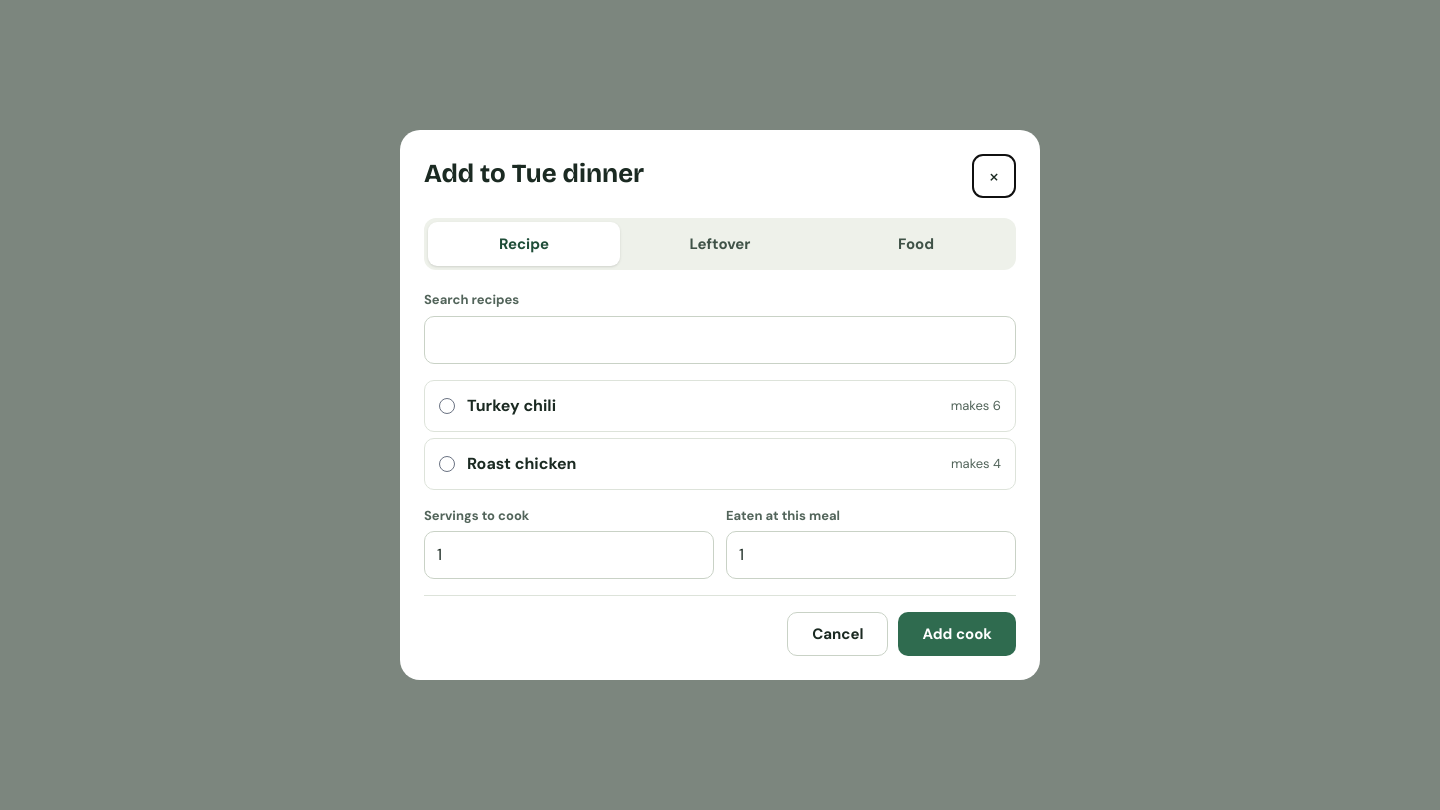
Test: AddDialog › offers only batches cooked before the slot with servings free
Click the tab "Leftover": (720, 244) [624,222,816,266]
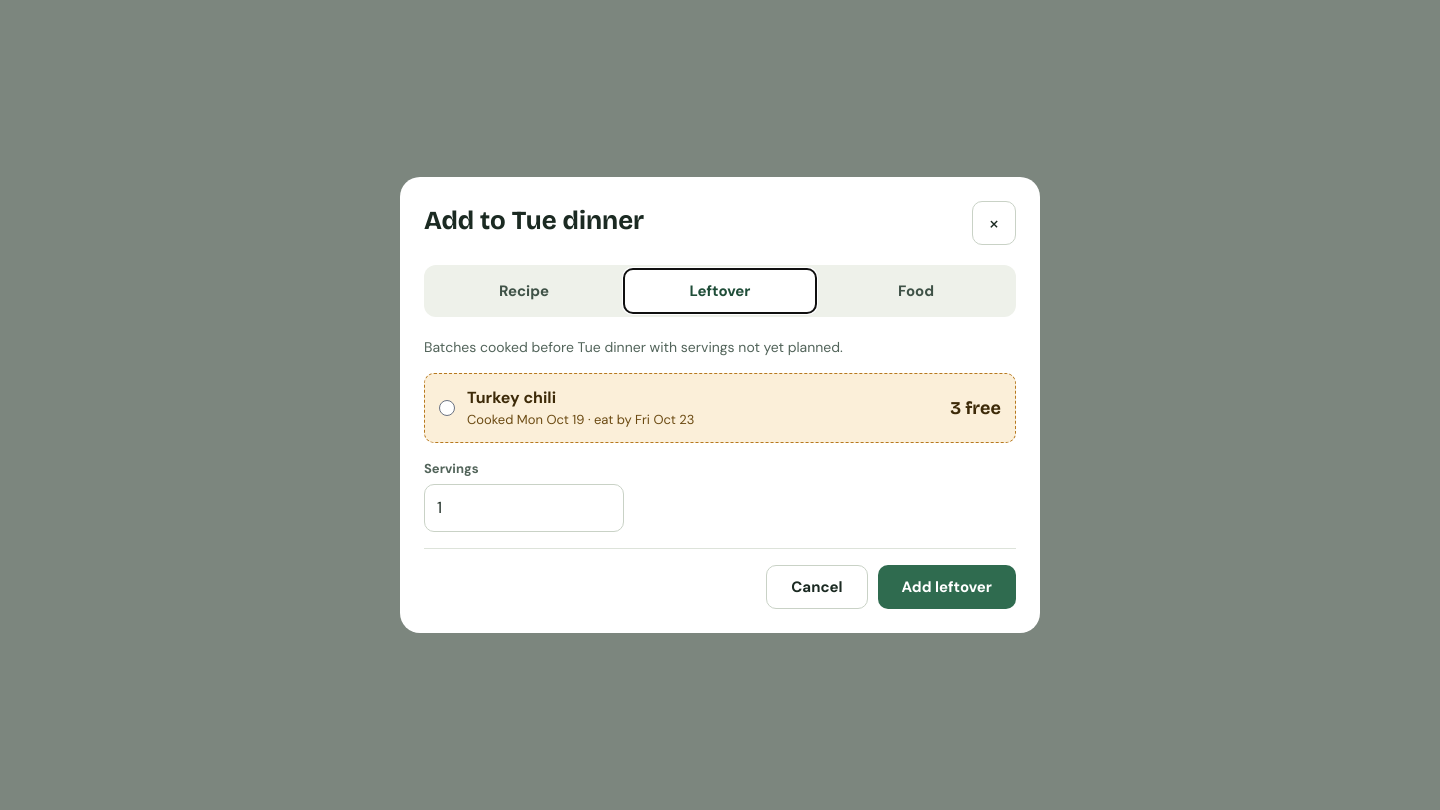
expect the radio button labelled "Turkey chili Cooked Mon Oct 19 · eat by Fri Oct 23 3 free" is shown: met, box [439,400,455,416]
